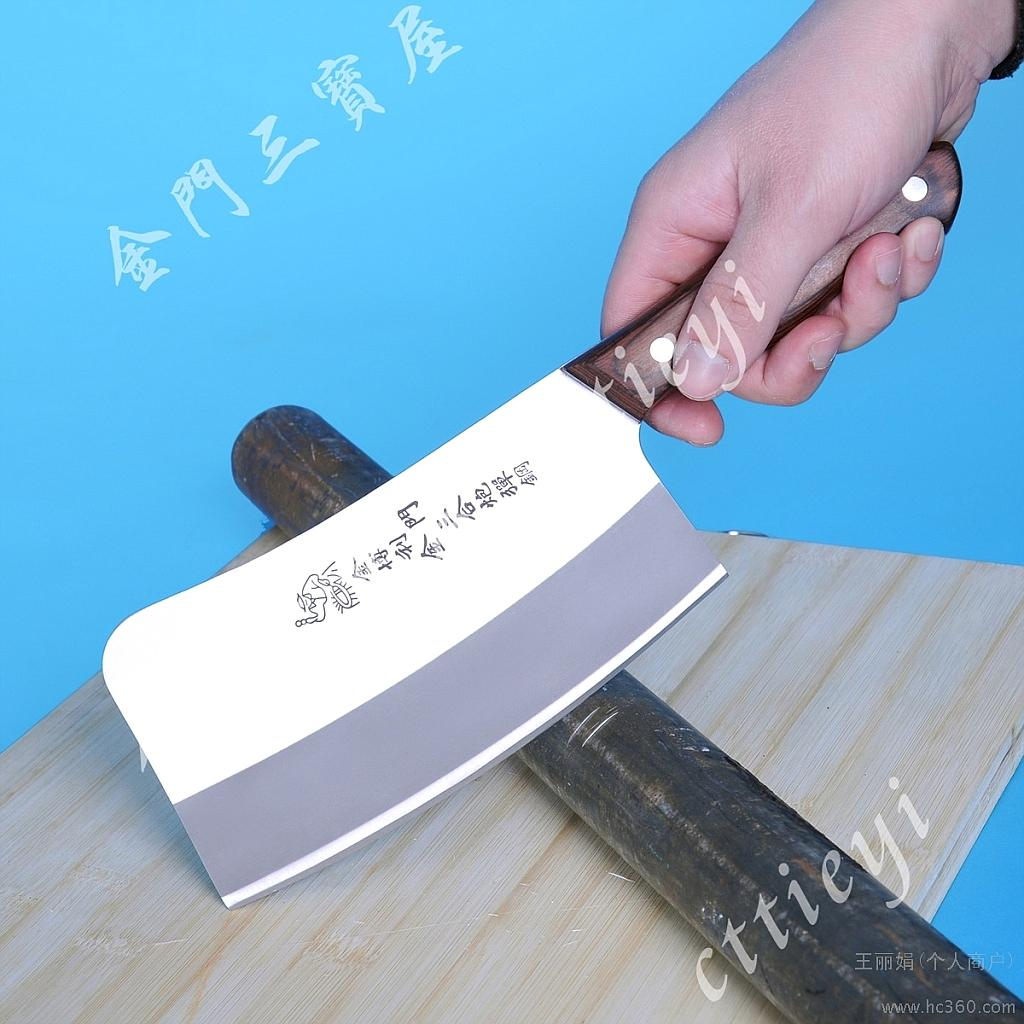knief: (113, 238, 864, 911)
